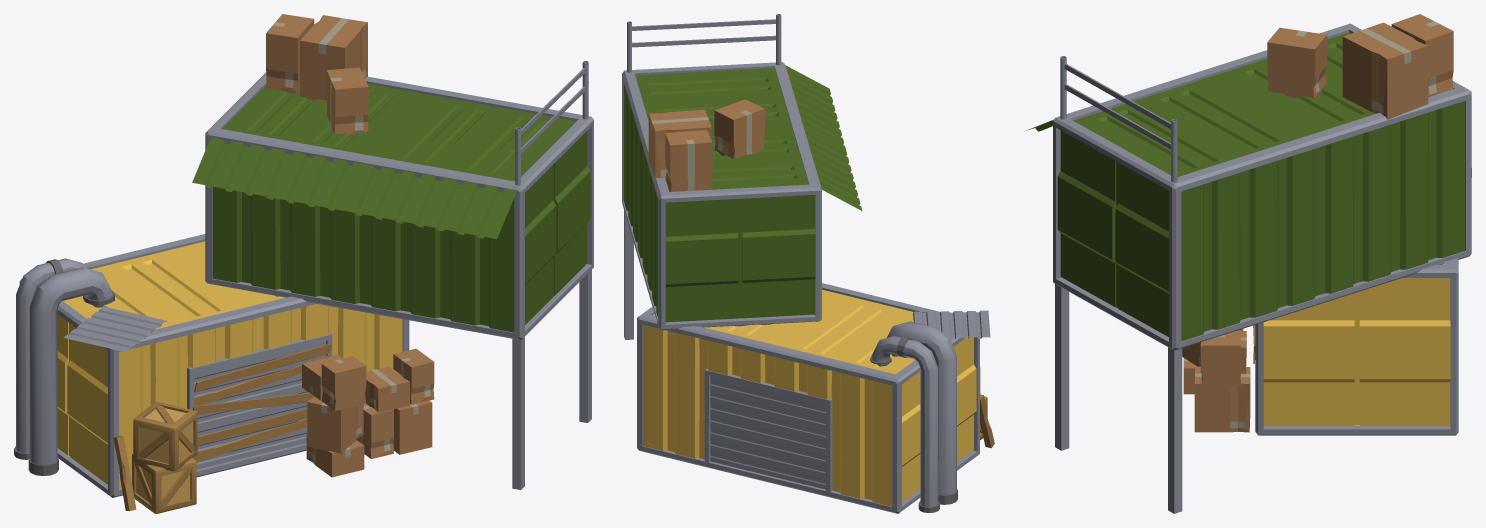
File: struct2.glb
3 views of the same model, side by side, from view 1: azimuth 30°, elevation 25°; view 2: azimuth 150°, elevation 25°; view 3: azimuth 270°, elevation 25° (orthographic). The views are drawn at different scales.
Parts seen in each view (by area): view 1: Structure_2; view 2: Structure_2; view 3: Structure_2.
Boxes of the visible parts, left/top/right/bottom form: Structure_2: left=14, top=14, right=593, bottom=513; Structure_2: left=622, top=14, right=994, bottom=513; Structure_2: left=1026, top=14, right=1471, bottom=513.
Size of the model in its own units: 10.58 by 7.79 by 7.97.
